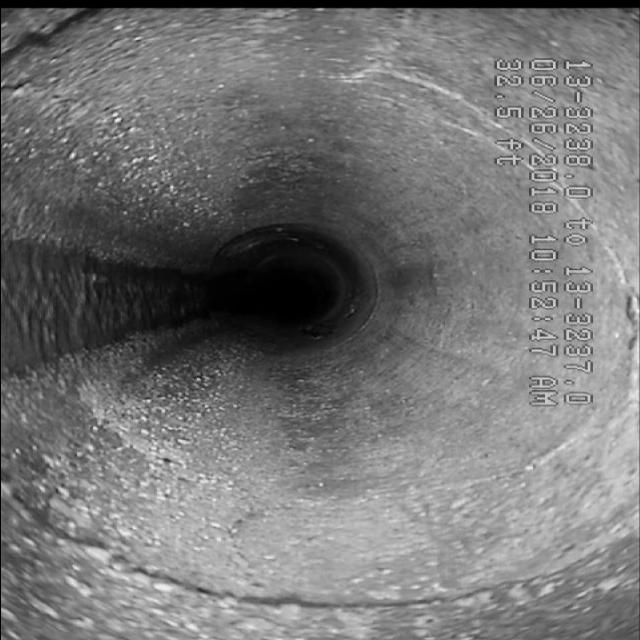Crack: (348, 23, 636, 275)
